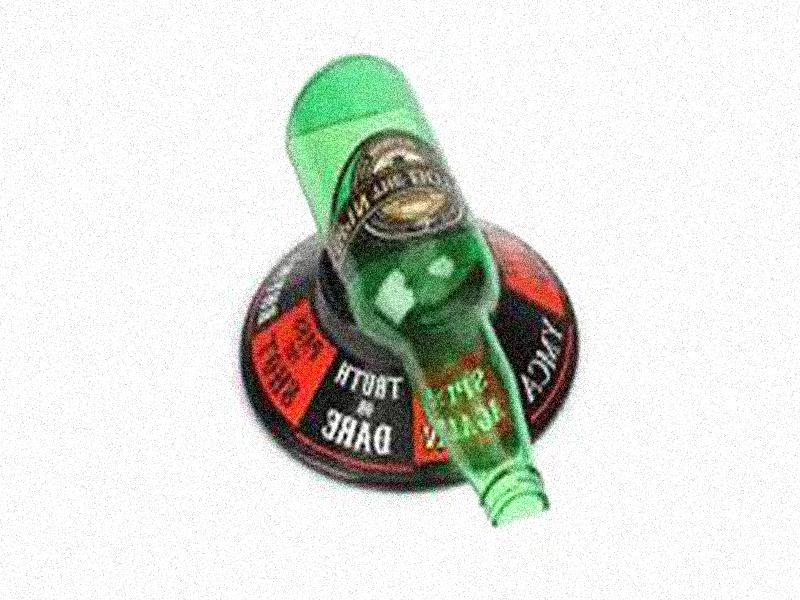Beer: (282, 55, 546, 527)
